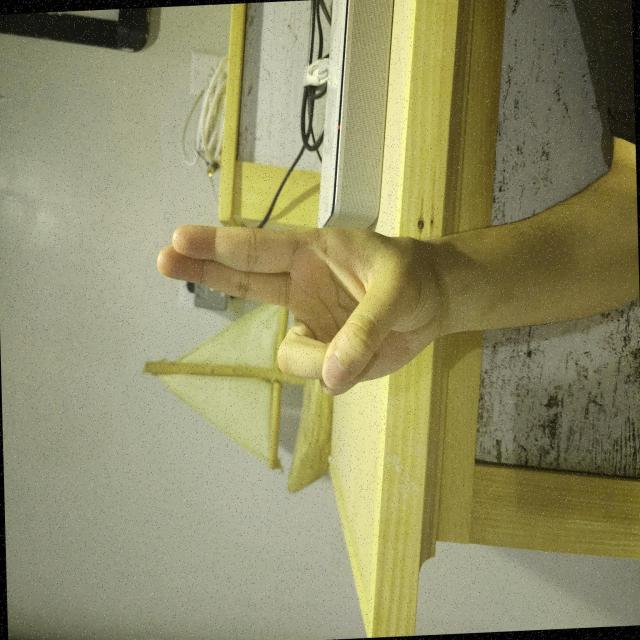U: (175, 207, 326, 600)
